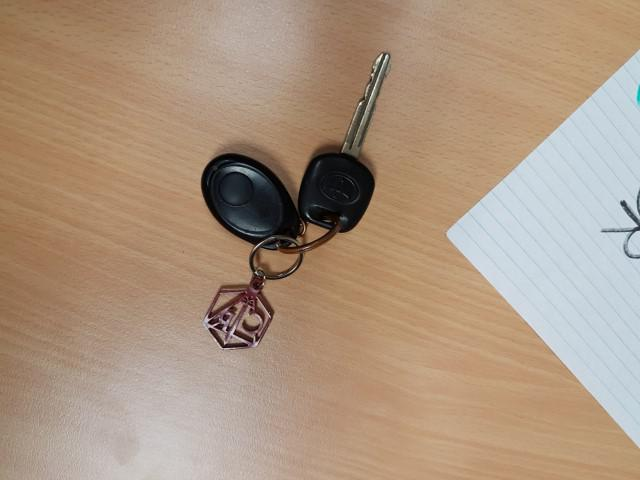key: (295, 46, 394, 247)
